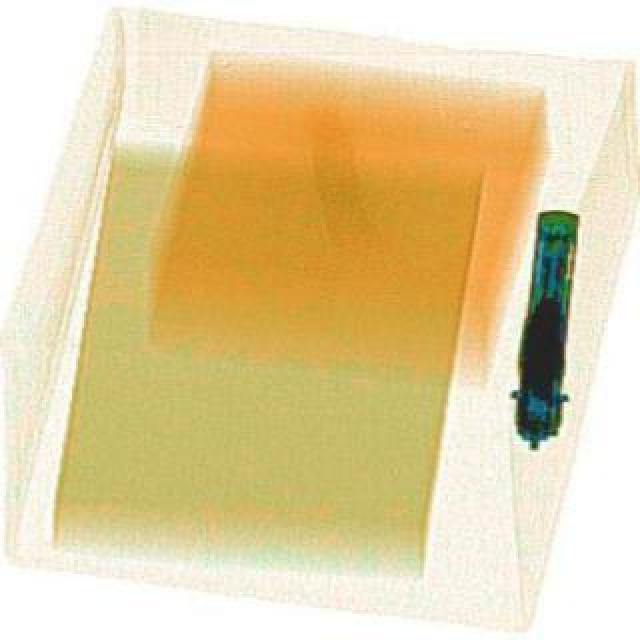gun: (520, 210, 580, 454)
